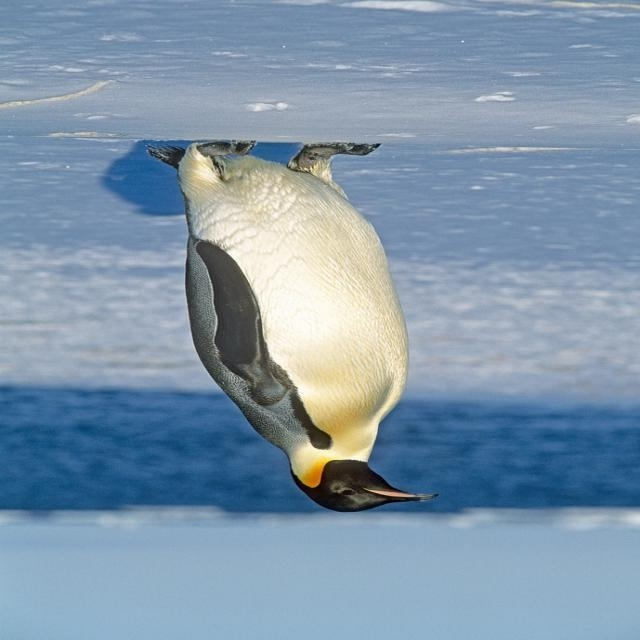penguin: (145, 137, 439, 512)
